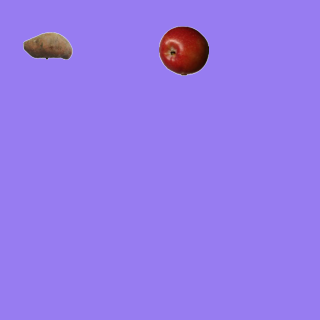Apple Braeburn: (158, 25, 208, 75)
Potato Sweet: (22, 20, 72, 70)
